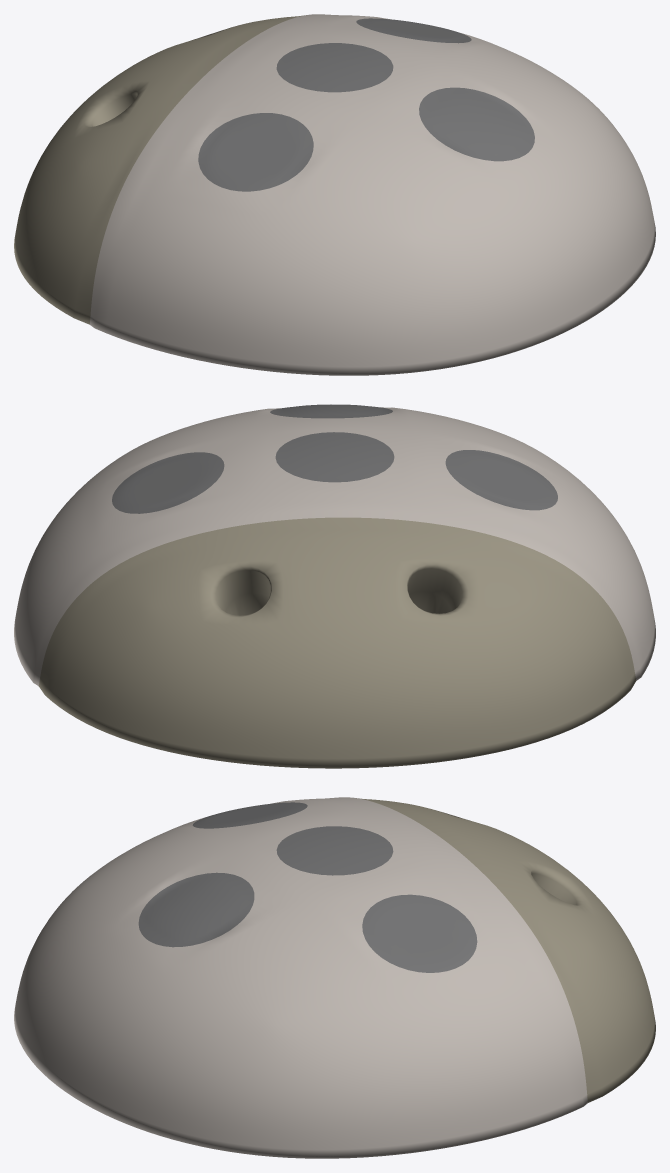
File: grey-mh.glb
3 views of the same model, one above another, from view 1: azimuth 30°, elevation 25°; view 2: azimuth 150°, elevation 25°; view 3: azimuth 270°, elevation 25° (orthographic).
Parts seen in each view (by area): view 1: Object; view 2: Object; view 3: Object.
Boxes of the visible parts, box(x1,y1,x2,y2) form: Object: box(14, 14, 655, 375); Object: box(14, 404, 655, 768); Object: box(14, 797, 655, 1158).
Bounding box in the file's own units: 0.632 × 0.19 × 0.632.
